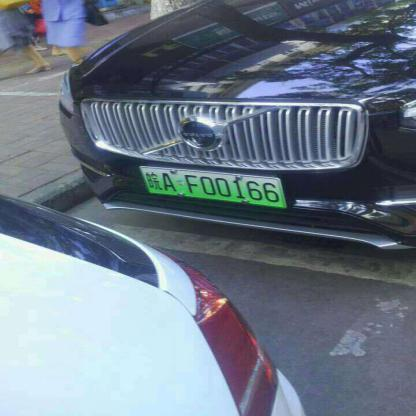lp: (140, 167, 284, 206)
